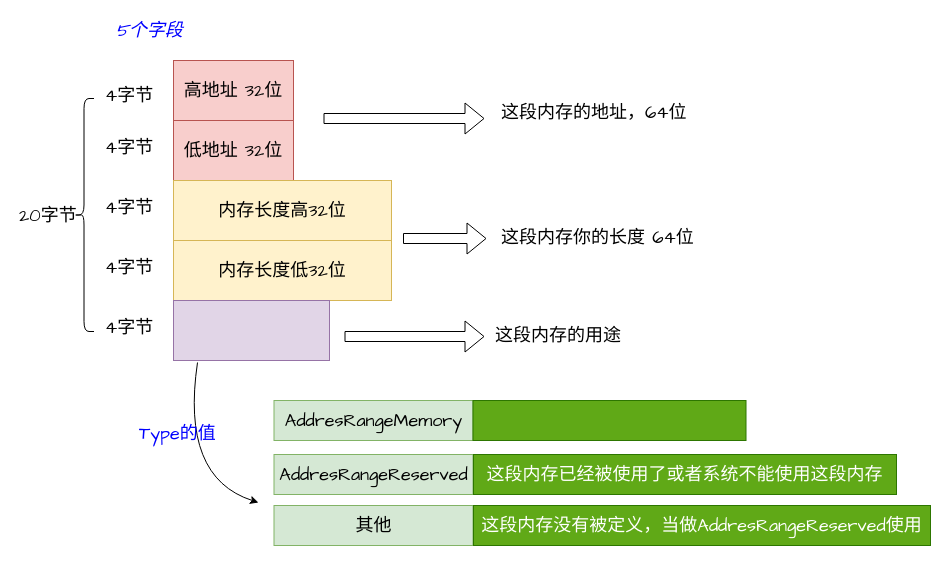
Image size: 948x563. Some labels were removed from this diagram. Each missing label, with the centre of its shape:
"Type字段" belongs at point 251,330.
"这段内存可以被操作系统使用" belongs at point 609,420.
